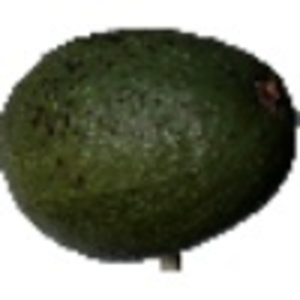abacate: (2, 21, 297, 255)
